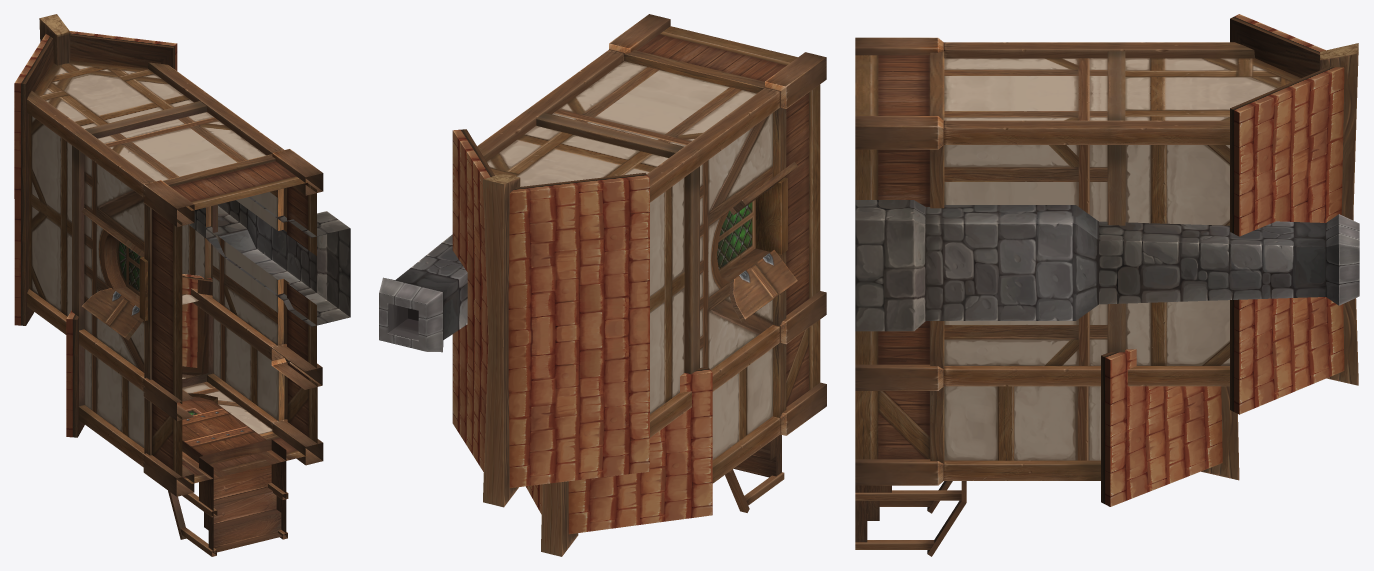
The model's file is House3.fbx.
3 renders of one model, left to right at view 1: azimuth 30°, elevation 25°; view 2: azimuth 150°, elevation 25°; view 3: azimuth 270°, elevation 25°, orthographic. The views are drawn at different scales.
Parts seen in each view (by area): view 1: House3; view 2: House3; view 3: House3.
Part boxes in pixels (bbox=[...]): House3: bbox=[14, 14, 350, 556]; House3: bbox=[379, 14, 826, 556]; House3: bbox=[855, 14, 1359, 556].
Size of what is drawn, in the model's own units: 3.89 by 7.71 by 7.26.
